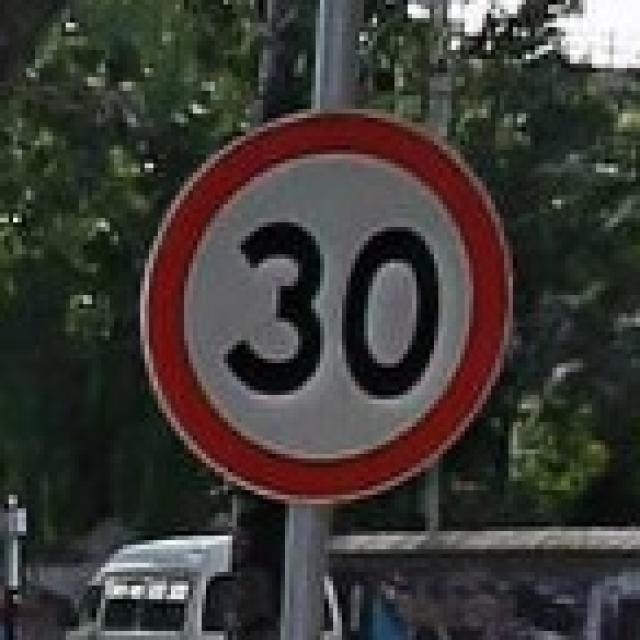Speed Limit -30-: (223, 212, 441, 402)
